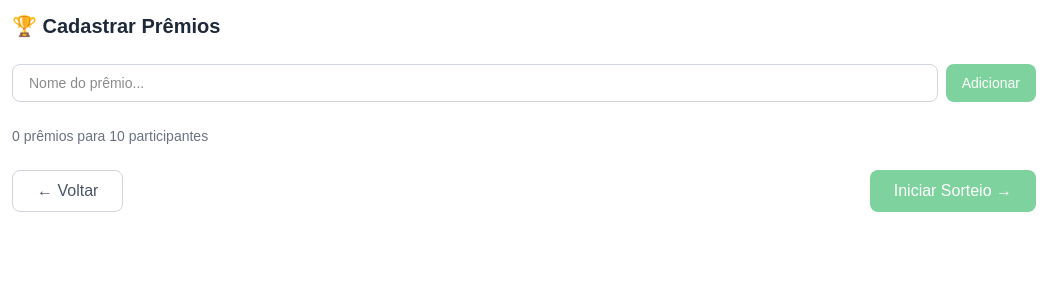
Test: StepPrizes › adds prize on Enter key
The image size is (1048, 299).
Type "Adesivo" into the field with placeholder "Nome do prêmio..." at (475, 83), box [12, 64, 938, 102]
Then press Enter
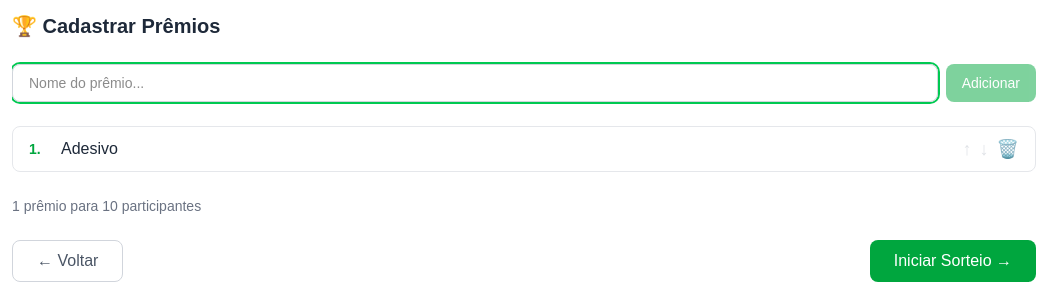
Expected: the text "Adesivo" is shown, [61, 140, 118, 157]
